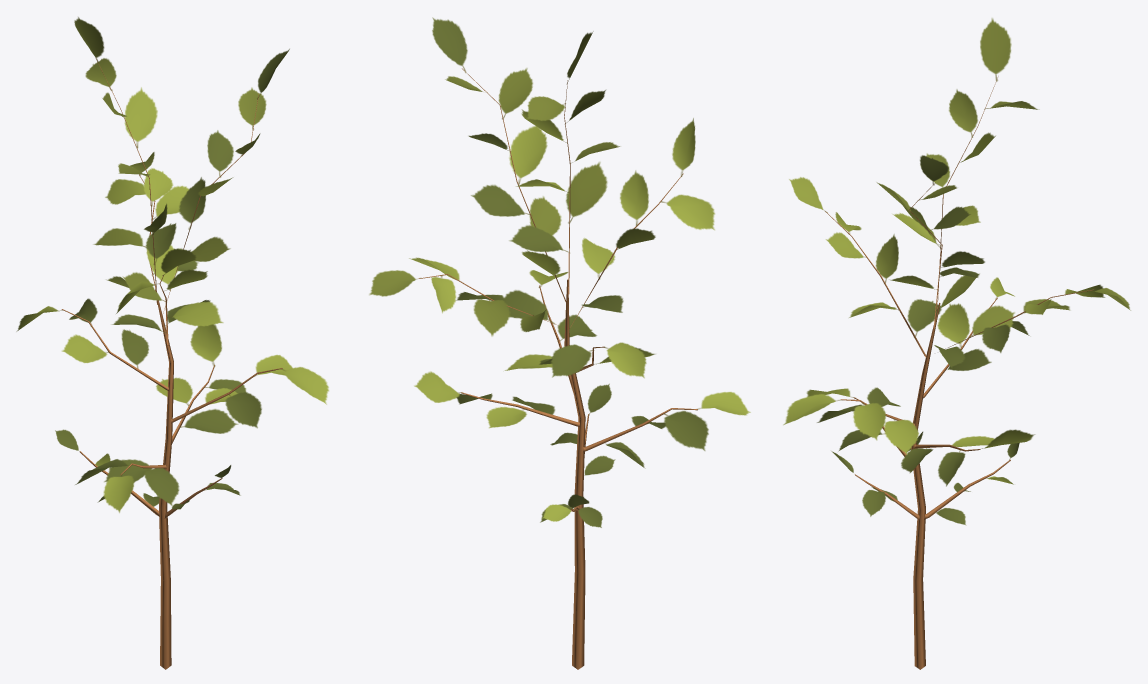
File: Young_Birch_Tree_1.glb
3 renders of one model, left to right at view 1: azimuth 30°, elevation 25°; view 2: azimuth 150°, elevation 25°; view 3: azimuth 270°, elevation 25°, orthographic. The views are drawn at different scales.
Parts seen in each view (by area): view 1: Young_Birch_Tree_1; view 2: Young_Birch_Tree_1; view 3: Young_Birch_Tree_1.
Part boxes in pixels (box(x1,y1,x2,y2)): Young_Birch_Tree_1: box(16, 17, 328, 669); Young_Birch_Tree_1: box(369, 17, 750, 669); Young_Birch_Tree_1: box(783, 18, 1130, 669).
Bounding box in the file's own units: 0.9857 × 2.43 × 1.24.
2 materials, 2 textured.
